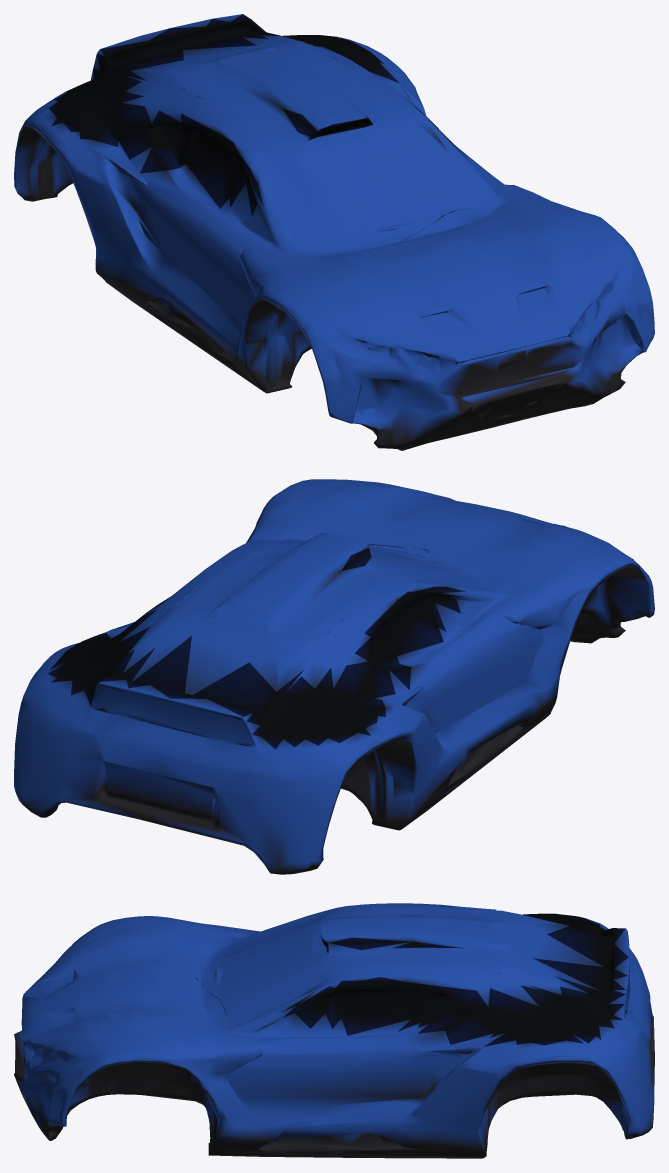
Rendered from volt_body_lo.glb.
3 renders of one model, top to bottom at view 1: azimuth 30°, elevation 25°; view 2: azimuth 150°, elevation 25°; view 3: azimuth 270°, elevation 25°, orthographic. The views are drawn at different scales.
Parts seen in each view (by area): view 1: body; view 2: body; view 3: body.
Boxes of the visible parts, x1,y1,x2,y2 form: body: (14, 14, 654, 450); body: (14, 479, 654, 874); body: (14, 903, 654, 1158).
Bounding box in the file's own units: 2.41 × 1.34 × 4.45.
